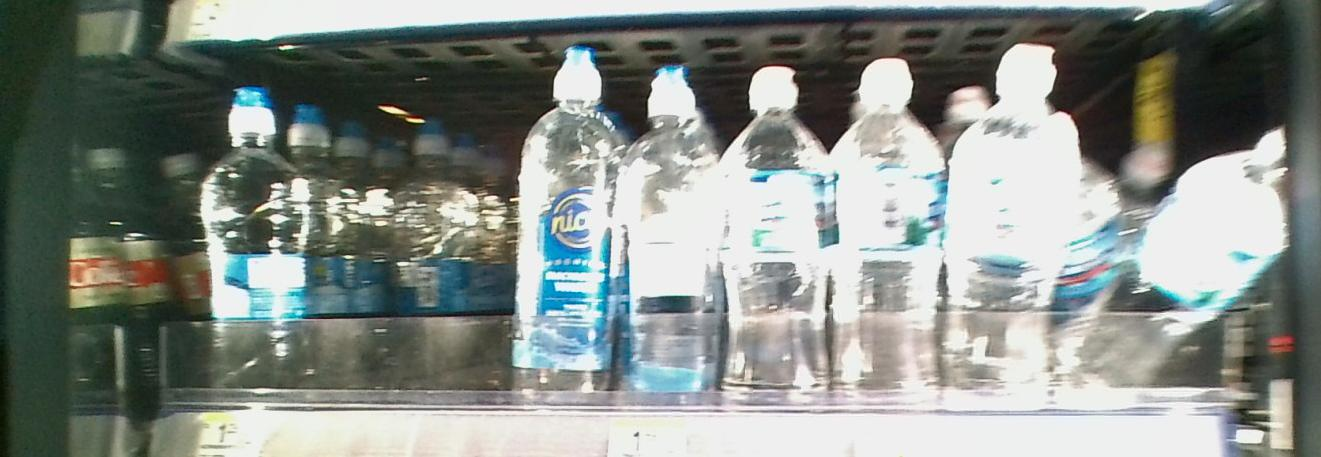bottle: (950, 38, 1079, 410), (514, 40, 617, 406), (198, 78, 307, 415), (726, 60, 830, 404), (839, 55, 939, 406), (622, 70, 719, 408), (397, 116, 479, 390)
